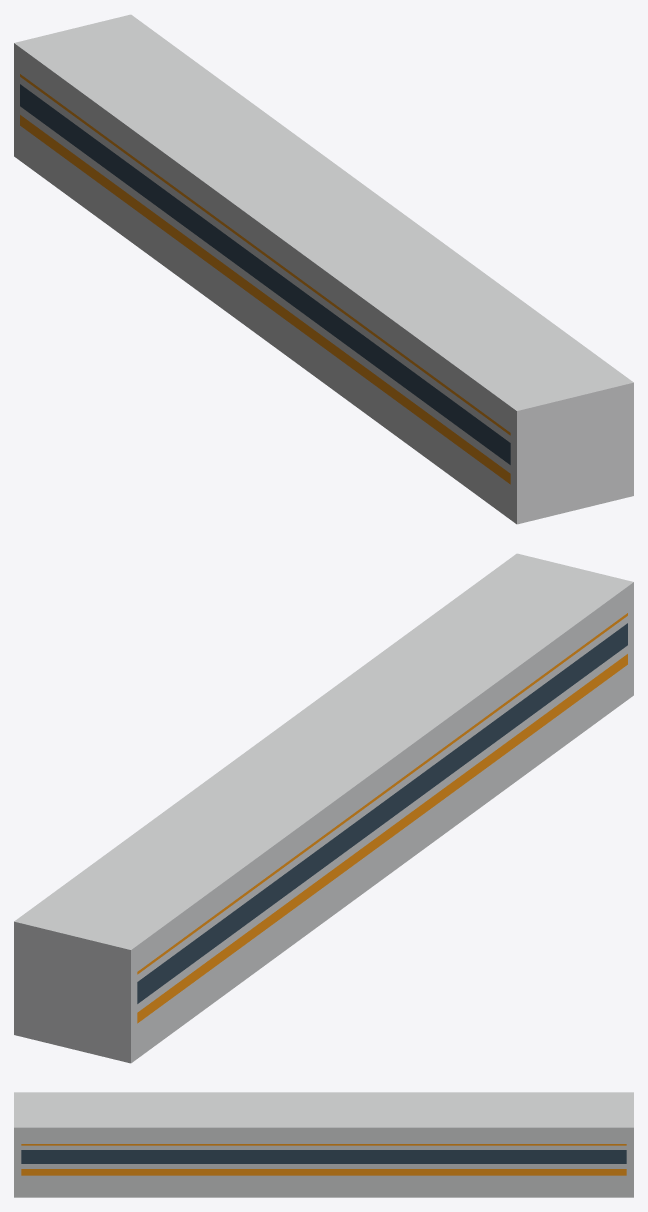
Rendered from 386_far.fbx.
The picture shows the model from 3 angles, top to bottom: view 1: azimuth 30°, elevation 25°; view 2: azimuth 150°, elevation 25°; view 3: azimuth 270°, elevation 25°; orthographic projection. The views are drawn at different scales.
Parts seen in each view (by area): view 1: 386_far; view 2: 386_far; view 3: 386_far.
Part boxes in pixels (x1=…): 386_far: x1=14, y1=14, x2=633, y2=524; 386_far: x1=14, y1=553, x2=633, y2=1063; 386_far: x1=14, y1=1092, x2=633, y2=1197.
Size of the model in its own units: 3.37 by 3.11 by 25.
